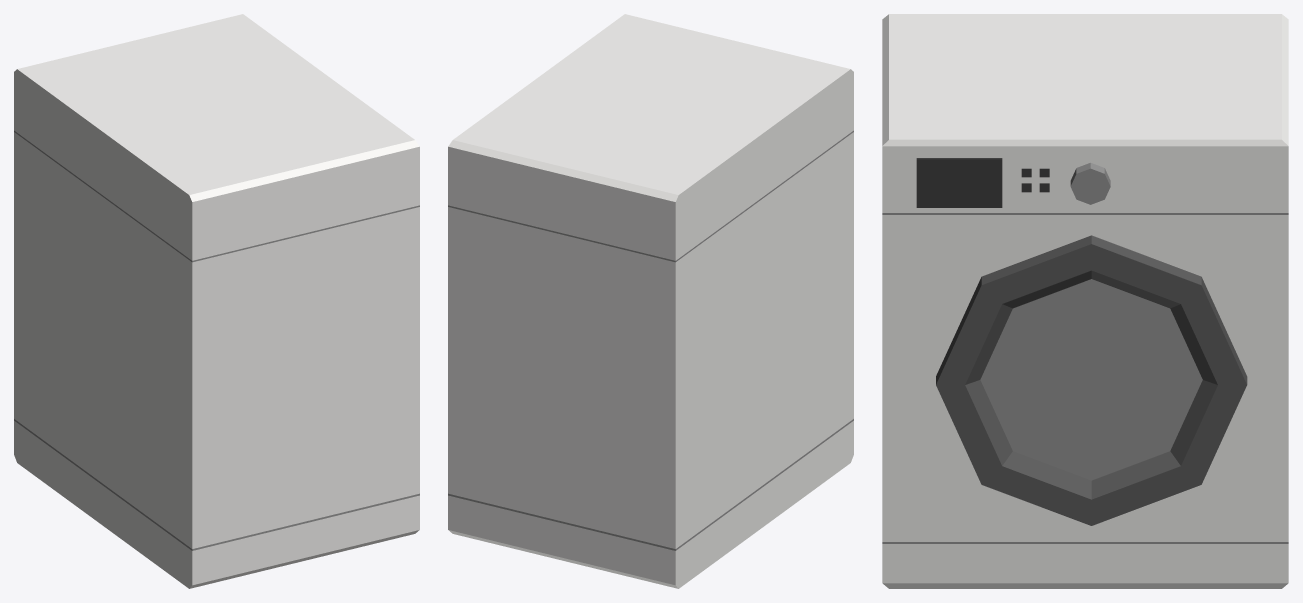
Rendered from Dryer.fbx.
3 views of the same model, side by side, from view 1: azimuth 30°, elevation 25°; view 2: azimuth 150°, elevation 25°; view 3: azimuth 270°, elevation 25° (orthographic). The views are drawn at different scales.
Parts seen in each view (by area): view 1: Dryer; view 2: Dryer; view 3: Dryer.
Boxes of the visible parts, box(x1,y1,x2,y2) form: Dryer: box(14, 14, 419, 588); Dryer: box(448, 14, 853, 588); Dryer: box(882, 14, 1288, 588).
Bounding box in the file's own units: 91.28 × 116 × 141.
